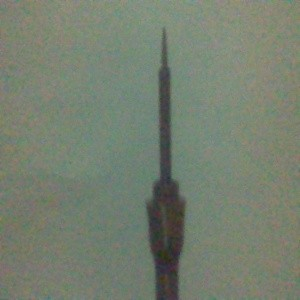solder: (144, 23, 188, 300)
